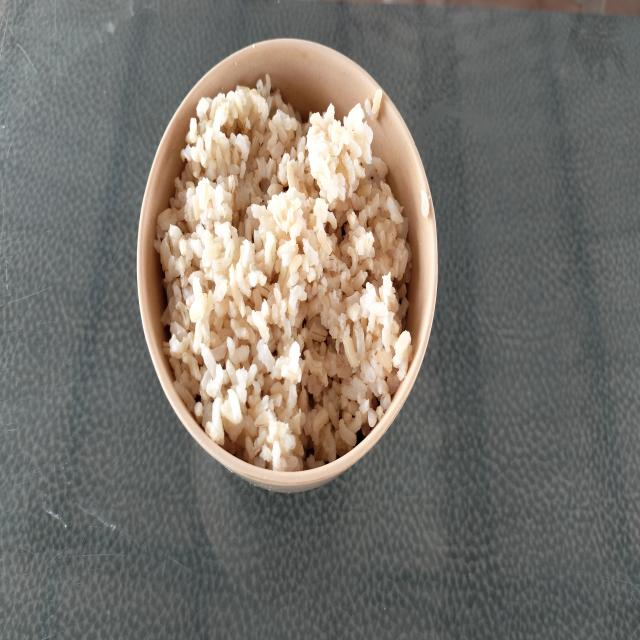brown-rice: (155, 78, 412, 472)
